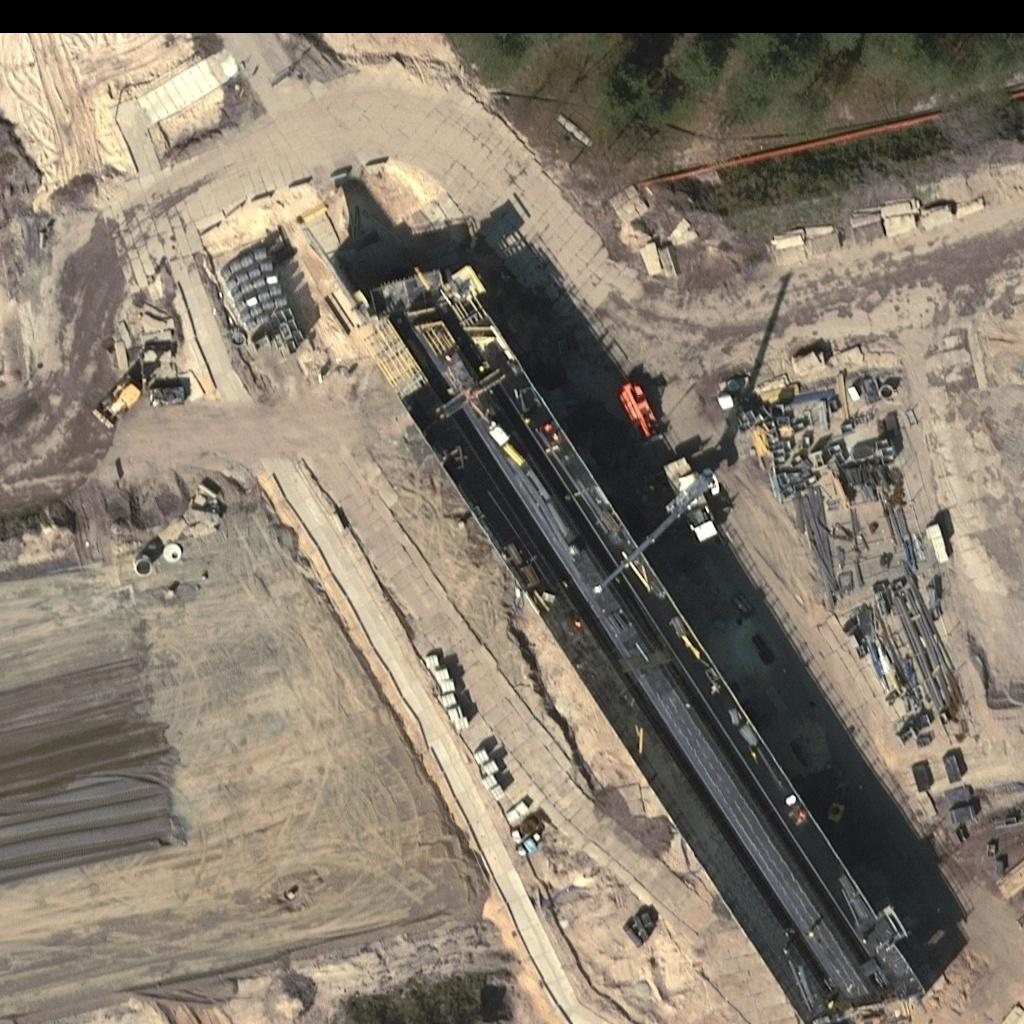koparka: (612, 377, 669, 448)
spychacz: (86, 376, 148, 432)
zuraw_mobilny: (589, 454, 724, 598)
